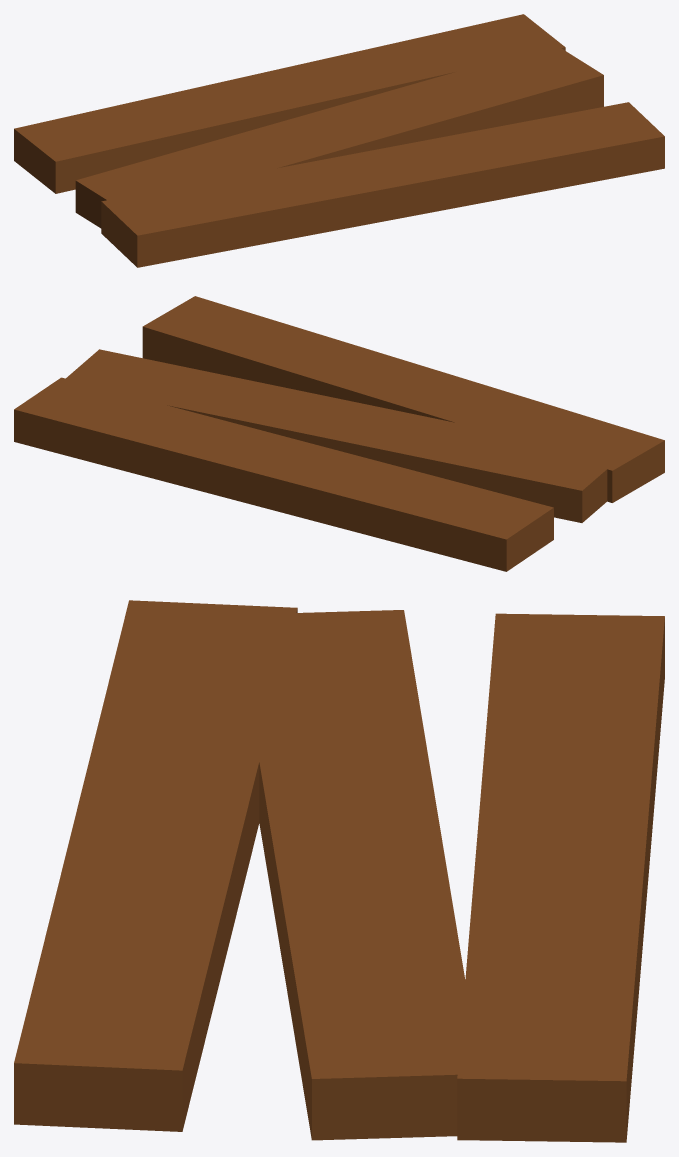
File: Extra_Planks_01.fbx
3 renders of one model, top to bottom at view 1: azimuth 30°, elevation 25°; view 2: azimuth 150°, elevation 25°; view 3: azimuth 270°, elevation 25°, orthographic. The views are drawn at different scales.
Parts seen in each view (by area): view 1: Extra_Planks_01_Mesh; view 2: Extra_Planks_01_Mesh; view 3: Extra_Planks_01_Mesh.
Boxes of the visible parts, bbox=[...] form: Extra_Planks_01_Mesh: bbox=[14, 14, 664, 267]; Extra_Planks_01_Mesh: bbox=[14, 296, 664, 571]; Extra_Planks_01_Mesh: bbox=[14, 600, 664, 1142].
Bounding box in the file's own units: 1.34 × 0.08 × 0.7686.
1 material, 1 textured.
